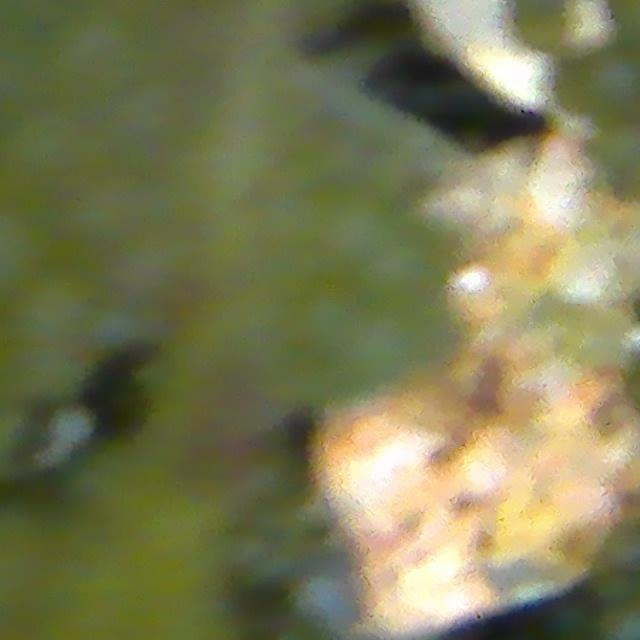SeaGrape: (576, 44, 640, 122)
